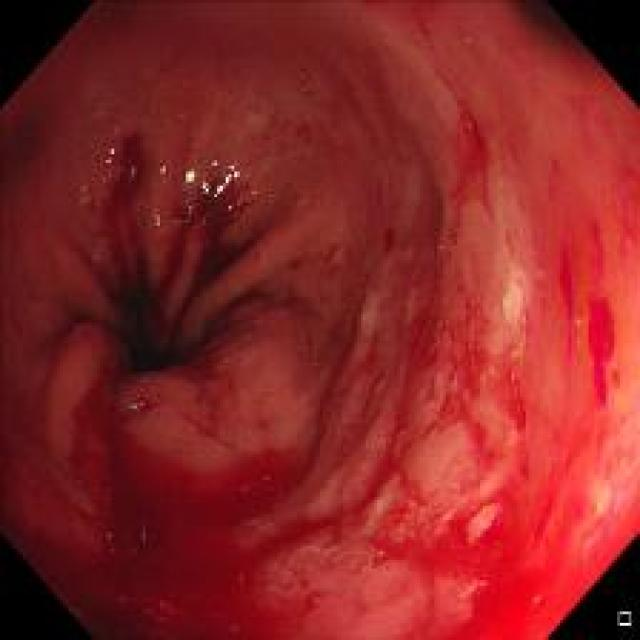blood: (28, 361, 366, 638), (370, 474, 634, 636), (178, 164, 252, 249), (105, 136, 154, 200)
bubbles: (298, 78, 311, 98)
color misalignment: (182, 196, 196, 220), (125, 164, 140, 178)
contrast: (88, 256, 220, 368)
specularity: (214, 165, 239, 196), (151, 209, 161, 226), (182, 169, 196, 181), (106, 148, 114, 164), (199, 182, 209, 192)
